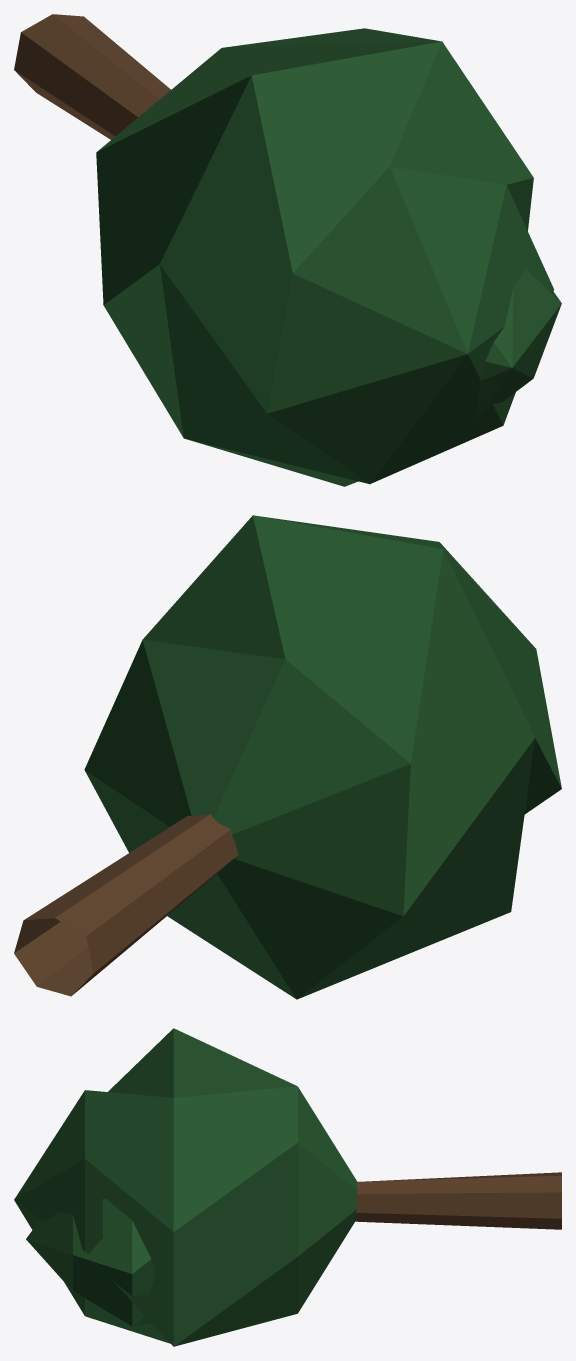
File: growth_2.glb
The picture shows the model from 3 angles, top to bottom: view 1: azimuth 30°, elevation 25°; view 2: azimuth 150°, elevation 25°; view 3: azimuth 270°, elevation 25°; orthographic projection. The views are drawn at different scales.
Visible parts, largest first — view 1: tree_07_growth_2; view 2: tree_07_growth_2; view 3: tree_07_growth_2.
Part boxes in pixels (x1,y1,x2,y2): tree_07_growth_2: [14, 14, 561, 486]; tree_07_growth_2: [14, 515, 561, 999]; tree_07_growth_2: [14, 1028, 561, 1346].
Size of the model in its own units: 11.78 by 13.06 by 22.62.
